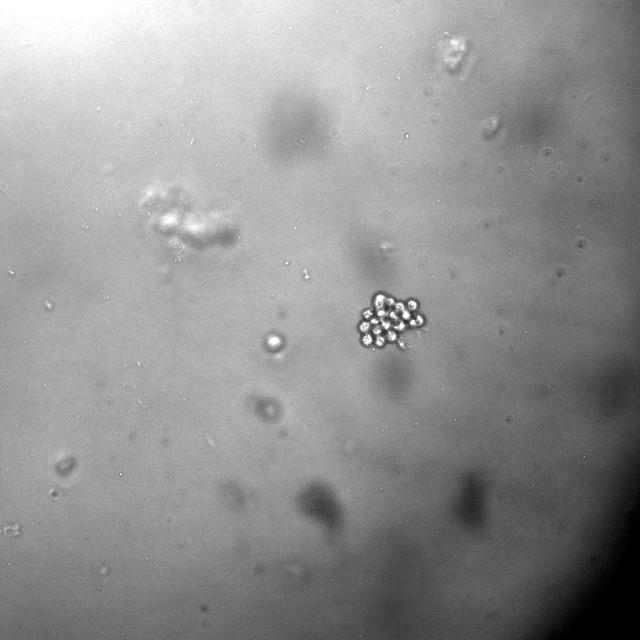organoid: (357, 291, 426, 349)
